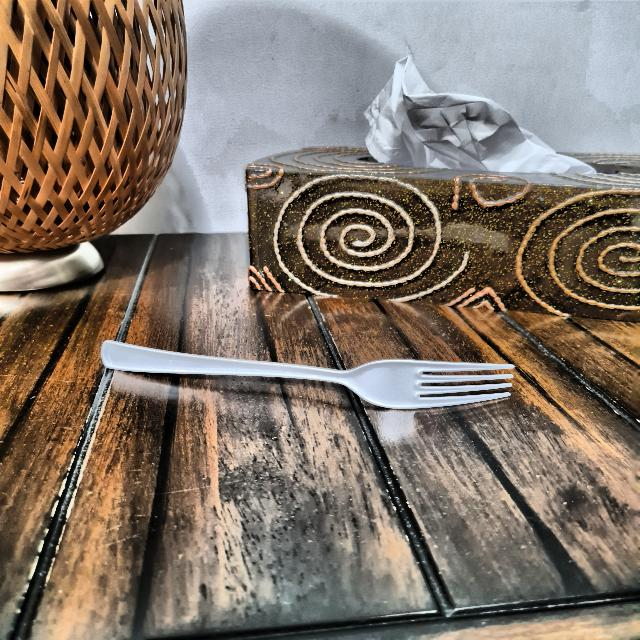plastic utensil: (98, 331, 515, 413)
